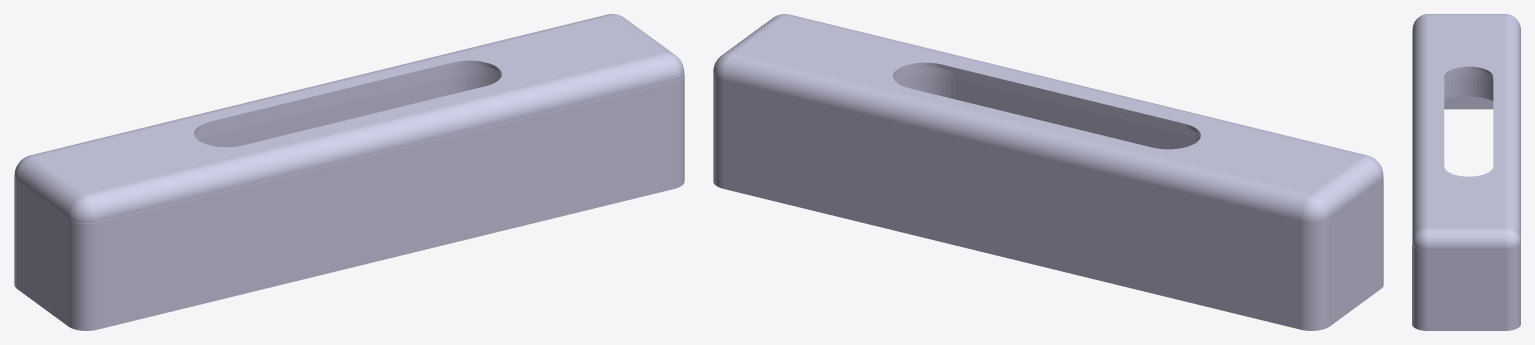
File: camsupport_2.dae
3 renders of one model, left to right at view 1: azimuth 30°, elevation 25°; view 2: azimuth 150°, elevation 25°; view 3: azimuth 270°, elevation 25°, orthographic. The views are drawn at different scales.
Parts seen in each view (by area): view 1: node0; view 2: node0; view 3: node0.
Part boxes in pixels (left/top/right/bottom): node0: left=14, top=14, right=684, bottom=330; node0: left=713, top=14, right=1383, bottom=330; node0: left=1412, top=14, right=1520, bottom=330.
Bounding box in the file's own units: 0.168 × 0.0343 × 0.0335.
